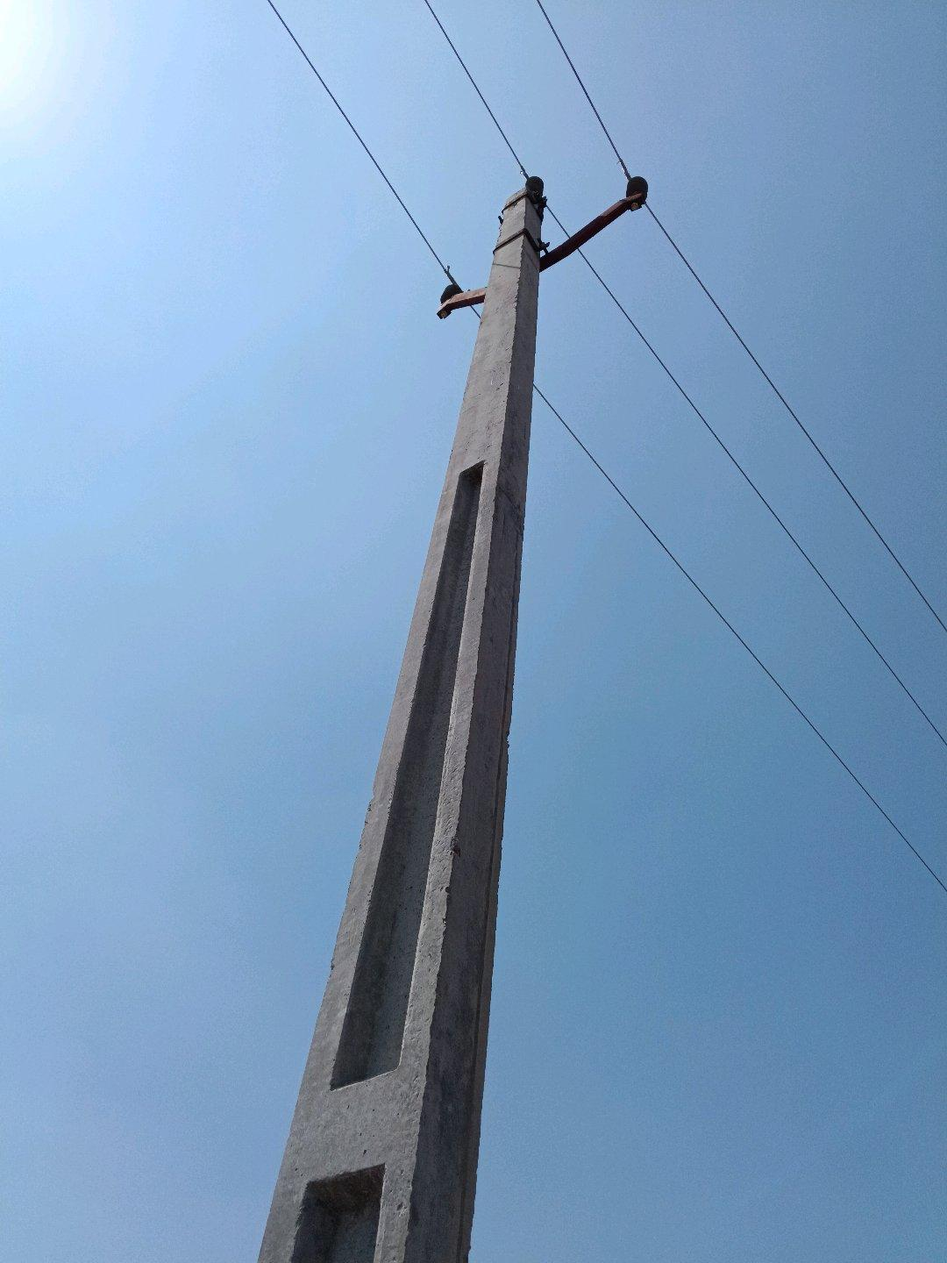{"0" "insulator", "1" "pole", "2" "crossarm", "3" "conductor", "4" "street_: (259, 177, 648, 1262)
